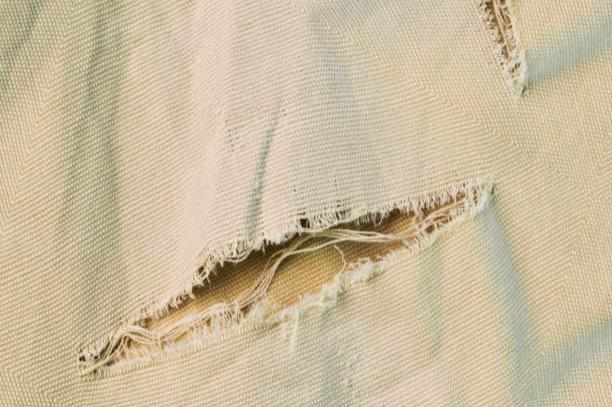hole: (70, 175, 507, 387), (469, 0, 531, 106)
